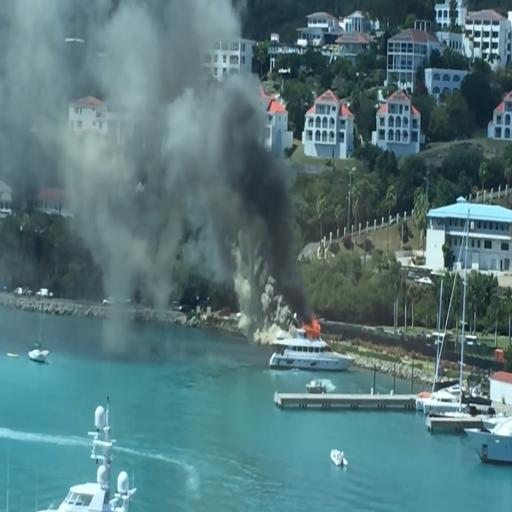smoke: (98, 0, 214, 155), (202, 83, 282, 220), (233, 204, 303, 318)
